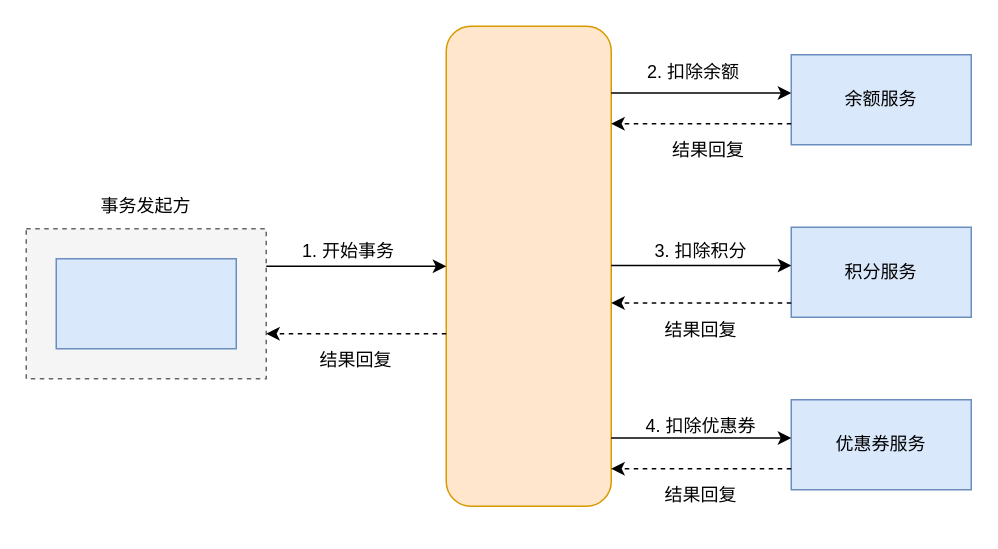
The diagram is 998 pixels wide and 549 high, and some of its shapes have lost their labels. Here are the shapes that lost their labels. From the top down, the box of each, then its label:
(445, 25, 611, 506): SAGA协调器
(55, 257, 236, 349): 主业务逻辑
